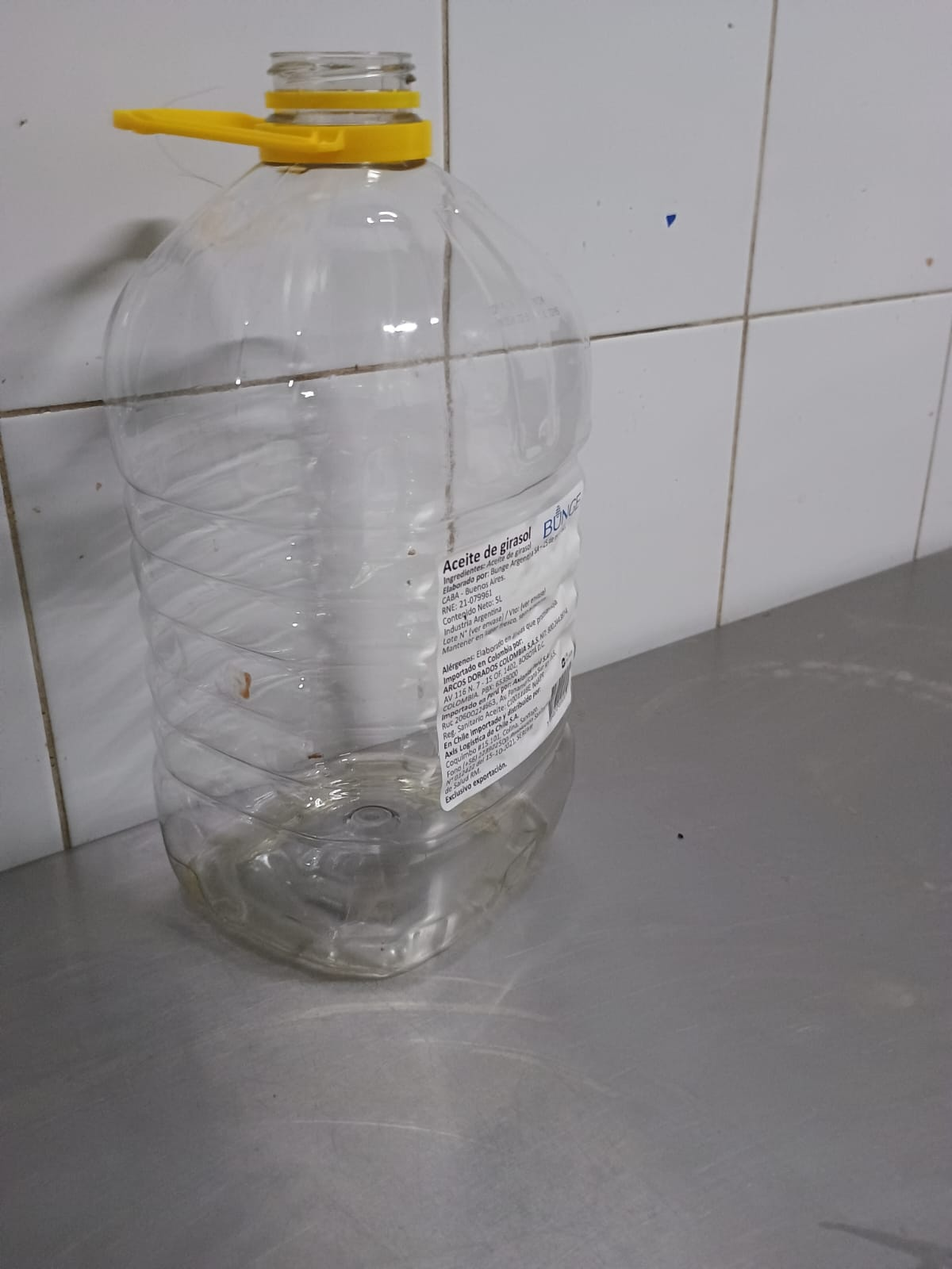Plastico: (97, 48, 598, 984)
